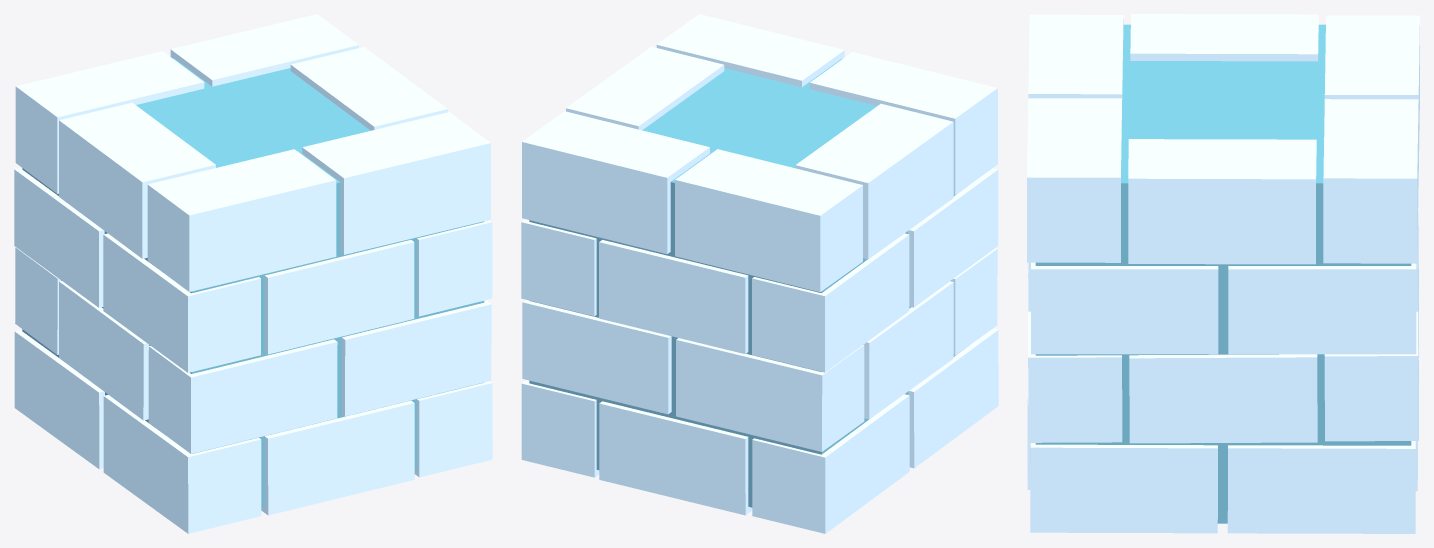
File: walls.gltf
3 views of the same model, side by side, from view 1: azimuth 30°, elevation 25°; view 2: azimuth 150°, elevation 25°; view 3: azimuth 270°, elevation 25° (orthographic). The views are drawn at different scales.
Visible parts, largest first — view 1: Box (×19); view 2: Box (×19); view 3: Box (×14).
Boxes of the visible parts, x1,y1,x2,y2 form: Box (×19): (14,14,492,533); Box (×19): (521,14,998,533); Box (×14): (1027,14,1419,533).
Bounding box in the file's own units: 0.9901 × 0.9908 × 0.9943.
